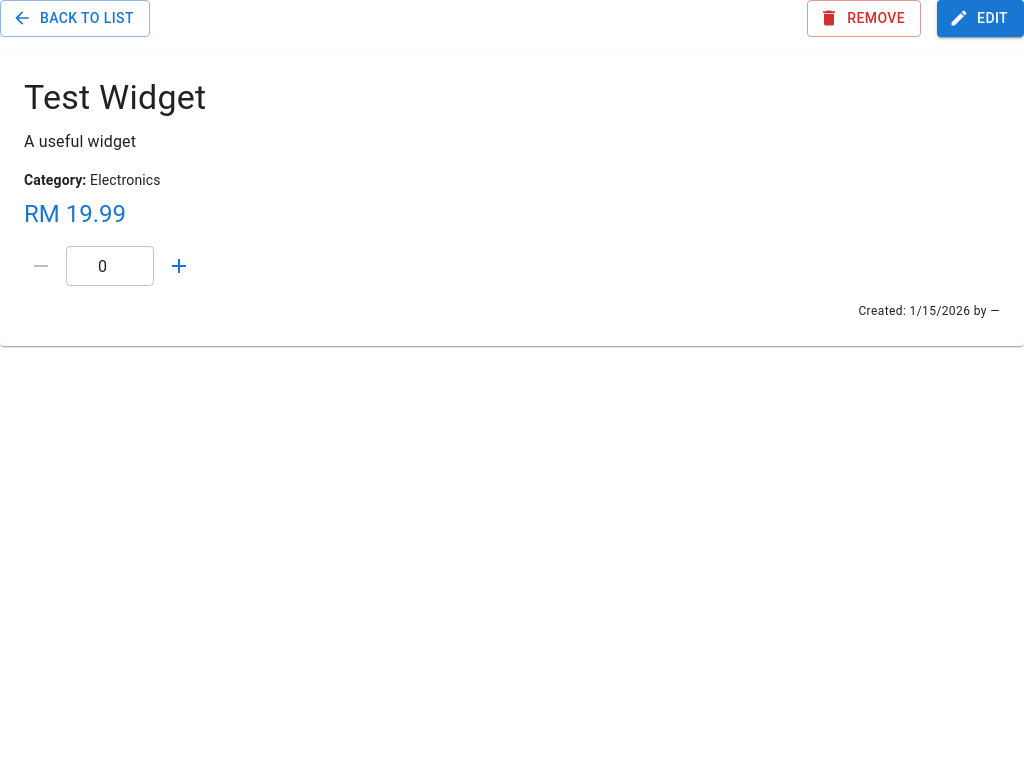
ProductDetailPage › opens the confirmation dialog when Remove is clicked
The width and height of the screenshot is (1024, 768).
Expected: the heading "Test Widget" is shown, [24,76,206,116]
Click the button "Remove" at (864, 18), box [807,0,921,36]
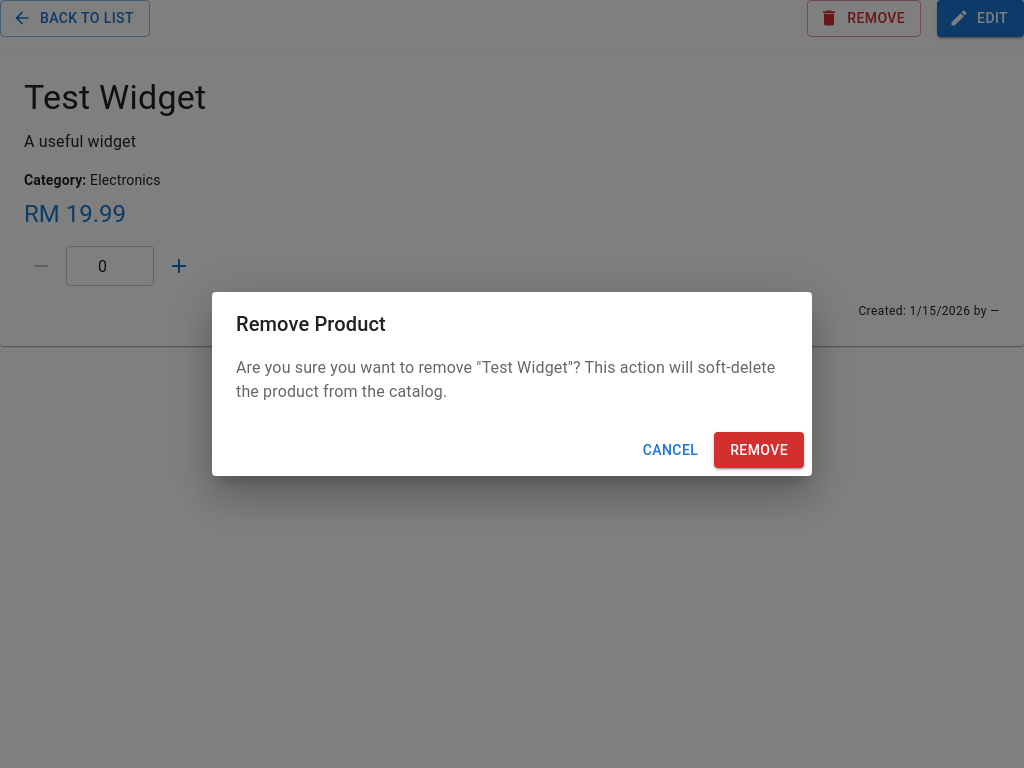
Expected: the heading "Remove Product" is shown, [236,312,386,336]
Expected: the text "Test Widget" is shown, [482,358,568,377]
